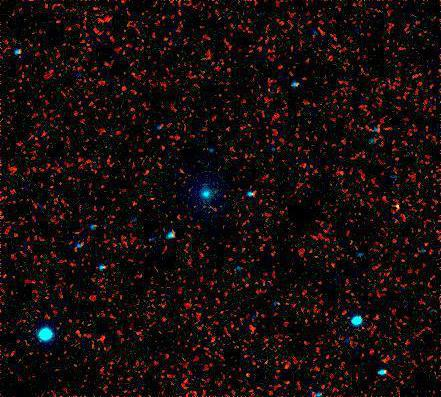star: (382, 191, 412, 221)
